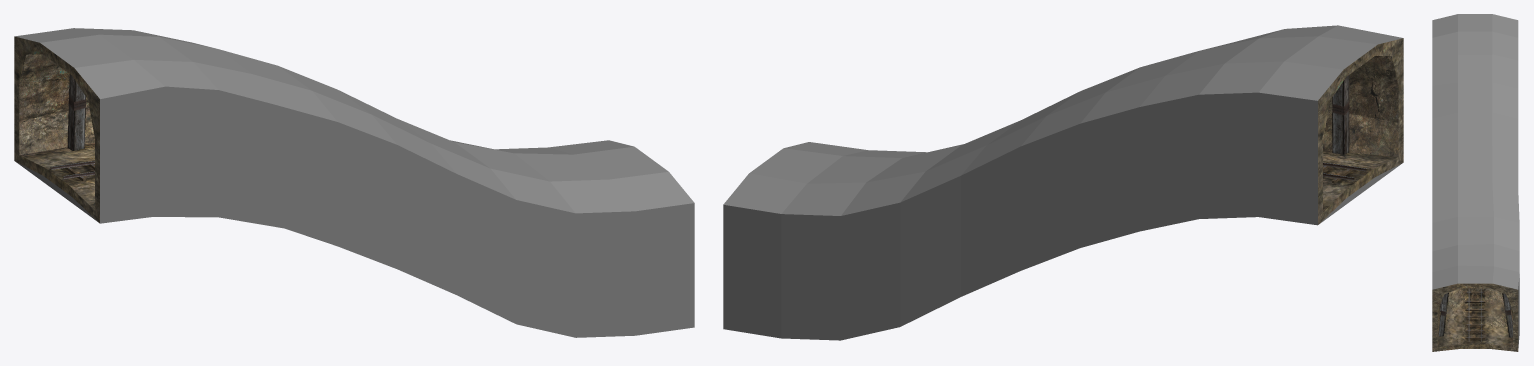
File: svgoldmine05.dae
3 views of the same model, side by side, from view 1: azimuth 30°, elevation 25°; view 2: azimuth 150°, elevation 25°; view 3: azimuth 270°, elevation 25° (orthographic). The views are drawn at different scales.
Parts seen in each view (by area): view 1: unnamed_object1_sep1179-0, unnamed_object1_sep1097-0; view 2: unnamed_object1_sep1179-0, unnamed_object1_sep1097-0; view 3: unnamed_object1_sep1179-0, unnamed_object1_sep1097-0, unnamed_object1_sep845-0.
Part boxes in pixels (x1,y1,x2,y2): unnamed_object1_sep1179-0: (14, 28, 694, 337); unnamed_object1_sep1097-0: (67, 74, 85, 150); unnamed_object1_sep1179-0: (723, 25, 1403, 340); unnamed_object1_sep1097-0: (1332, 75, 1349, 154); unnamed_object1_sep1179-0: (1432, 14, 1519, 351); unnamed_object1_sep1097-0: (1438, 293, 1512, 337); unnamed_object1_sep845-0: (1465, 288, 1485, 342).
Bounding box in the file's own units: 6000 × 3720 × 1525.
